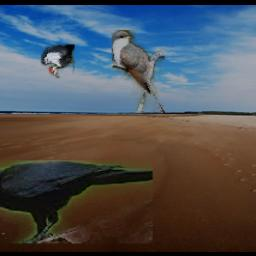Crow: (0, 160, 154, 243)
Cuckoo: (112, 30, 165, 113)
Woodpecker: (41, 45, 75, 79)
